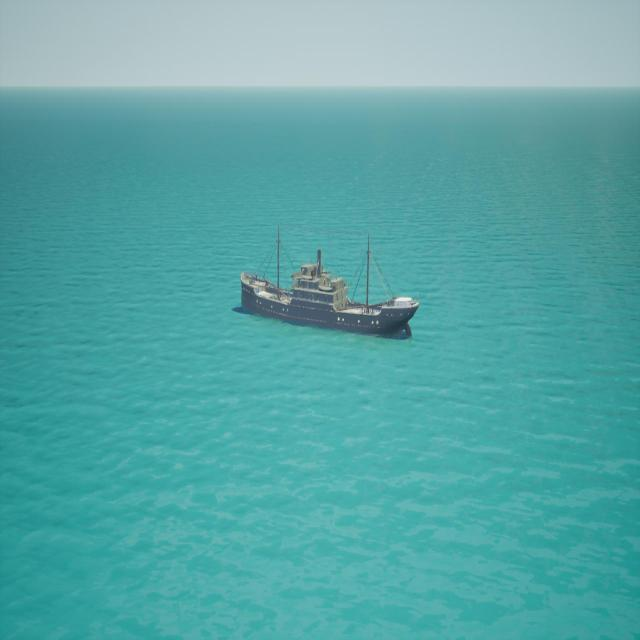fishing ship: (239, 231, 418, 341)
